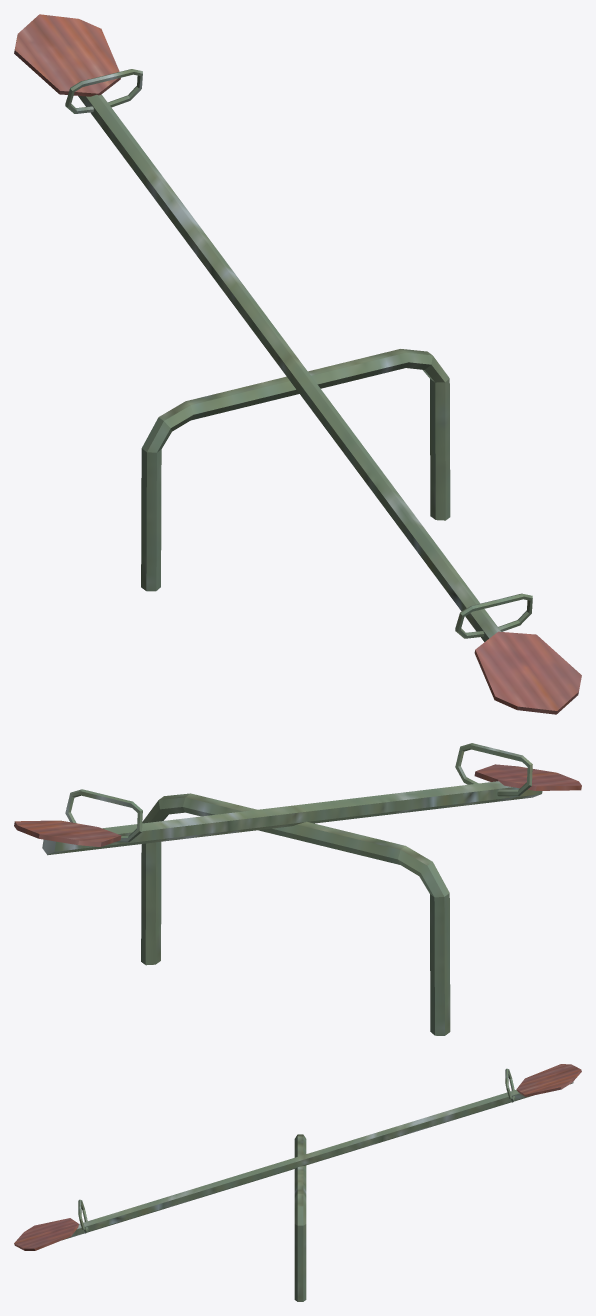
The model's file is Seesaw.fbx.
The picture shows the model from 3 angles, top to bottom: view 1: azimuth 30°, elevation 25°; view 2: azimuth 150°, elevation 25°; view 3: azimuth 270°, elevation 25°; orthographic projection. The views are drawn at different scales.
Visible parts, largest first — view 1: Seesaw; view 2: Seesaw; view 3: Seesaw.
Part boxes in pixels (x1=…): Seesaw: x1=14, y1=14, x2=581, y2=714; Seesaw: x1=14, y1=743, x2=581, y2=1035; Seesaw: x1=14, y1=1064, x2=581, y2=1301.
Size of the model in its own units: 144 by 159 by 426.
